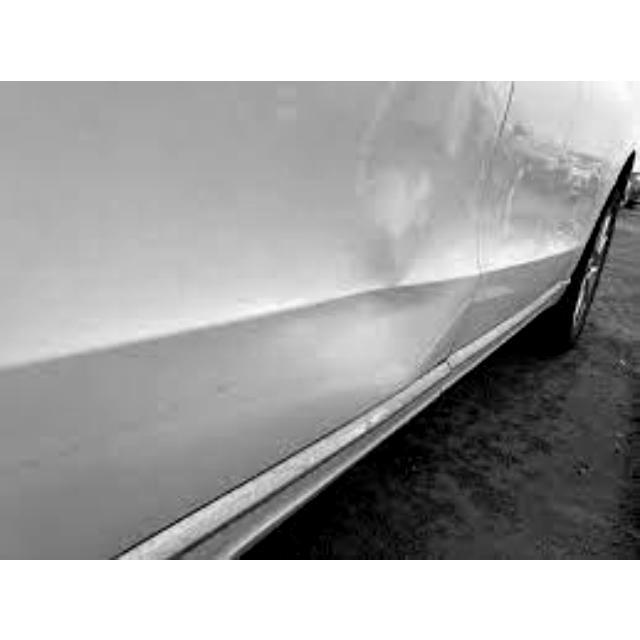Runningboard-Damage: (581, 140, 583, 142)
doorouter-dent: (0, 80, 474, 430)
